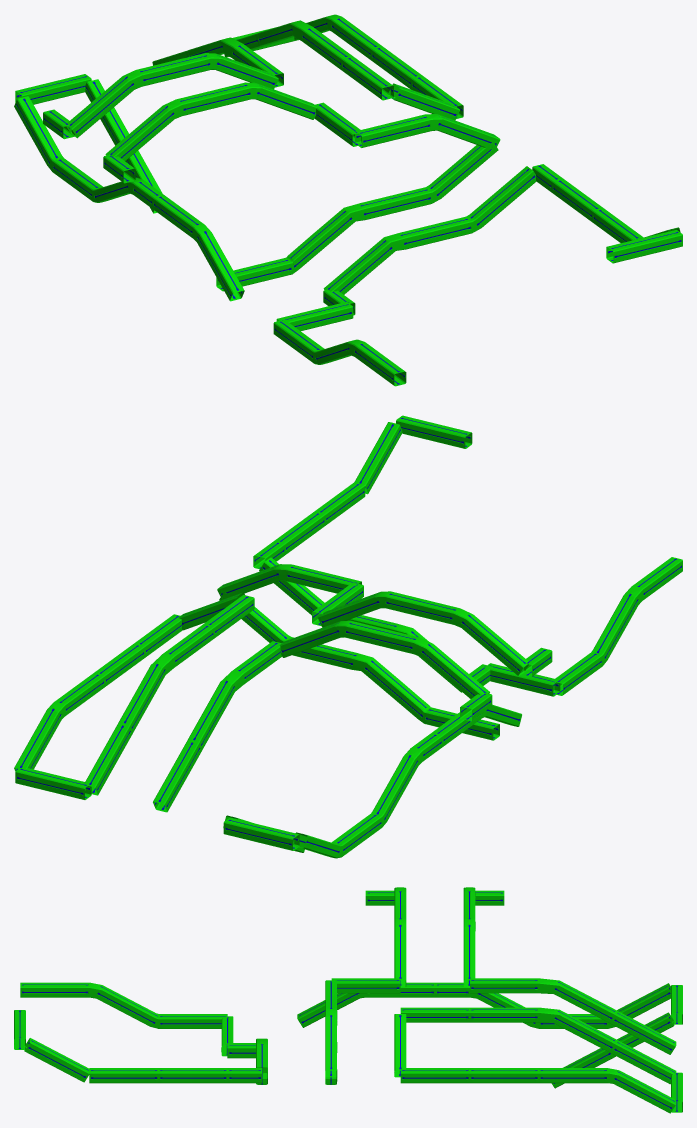
Rendered from MeMursMillieu.fbx.
3 views of the same model, one above another, from view 1: azimuth 30°, elevation 25°; view 2: azimuth 150°, elevation 25°; view 3: azimuth 270°, elevation 25° (orthographic). The views are drawn at different scales.
Visible parts, largest first — view 1: PlainteMur (90); view 2: PlainteMur (90); view 3: PlainteMur (90).
Boxes of the visible parts, x1,y1,x2,y2 form: PlainteMur (90): [14, 14, 682, 386]; PlainteMur (90): [14, 415, 682, 858]; PlainteMur (90): [14, 887, 682, 1113].
Size of the model in its own units: 1552 by 797 by 2902.
